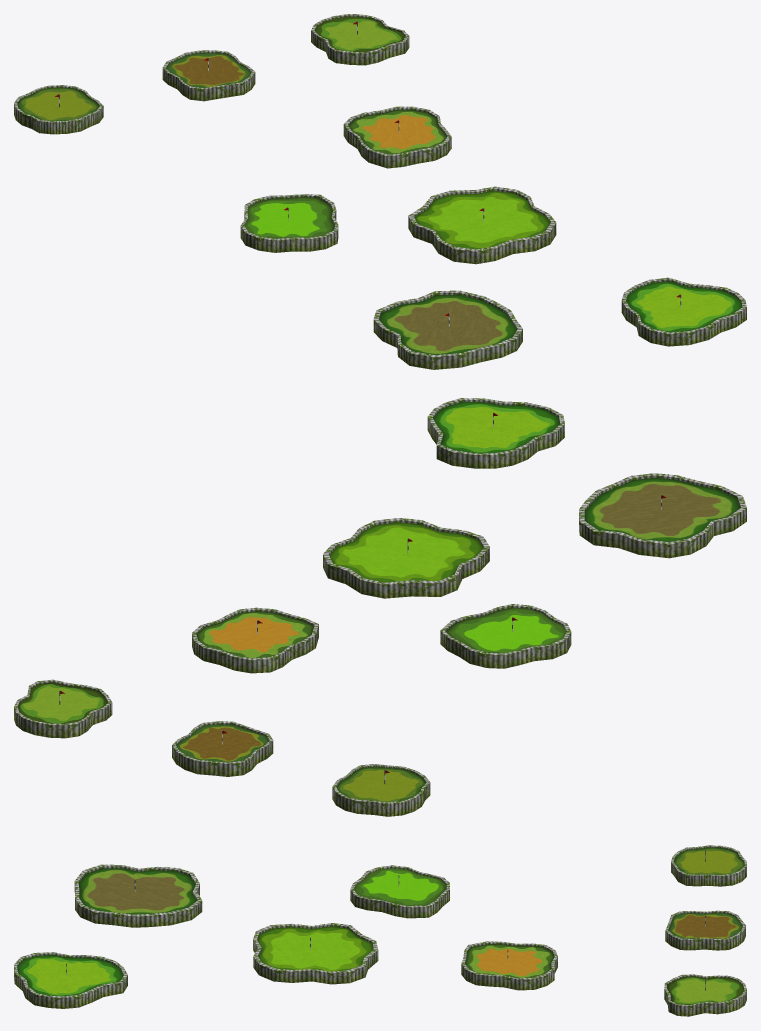
Rendered from island.fbx.
The picture shows the model from 3 angles, top to bottom: view 1: azimuth 30°, elevation 25°; view 2: azimuth 150°, elevation 25°; view 3: azimuth 270°, elevation 25°; orthographic projection. The views are drawn at different scales.
Parts seen in each view (by area): view 1: islands7, islands6, islands8, islands4, islands5, islands3, islands1, islands2; view 2: islands7, islands6, islands8, islands5, islands4, islands3, islands1, islands2; view 3: islands7, islands6, islands8, islands5, islands4, islands3, islands1, islands2.
Boxes of the visible parts, x1,y1,x2,y2 form: islands7: (373,290,522,369); islands6: (408,186,556,264); islands8: (621,277,746,346); islands4: (343,106,451,168); islands5: (240,194,338,252); islands3: (311,14,409,65); islands1: (162,50,255,101); islands2: (14,85,103,134); islands7: (579,473,746,558); islands6: (323,518,489,598); islands8: (427,398,564,468); islands5: (440,604,571,668); islands4: (192,607,318,673); islands3: (14,679,112,738); islands1: (172,721,273,776); islands2: (332,764,430,816); islands7: (74,864,202,927); islands6: (253,923,378,984); islands8: (14,952,127,1008); islands5: (350,865,449,918); islands4: (461,941,557,990); islands3: (664,974,746,1016); islands1: (665,910,745,950); islands2: (671,845,746,886).
Bounding box in the file's own units: 83.9 × 5.3 × 162.
Materials: 8 (8 with a texture image).
